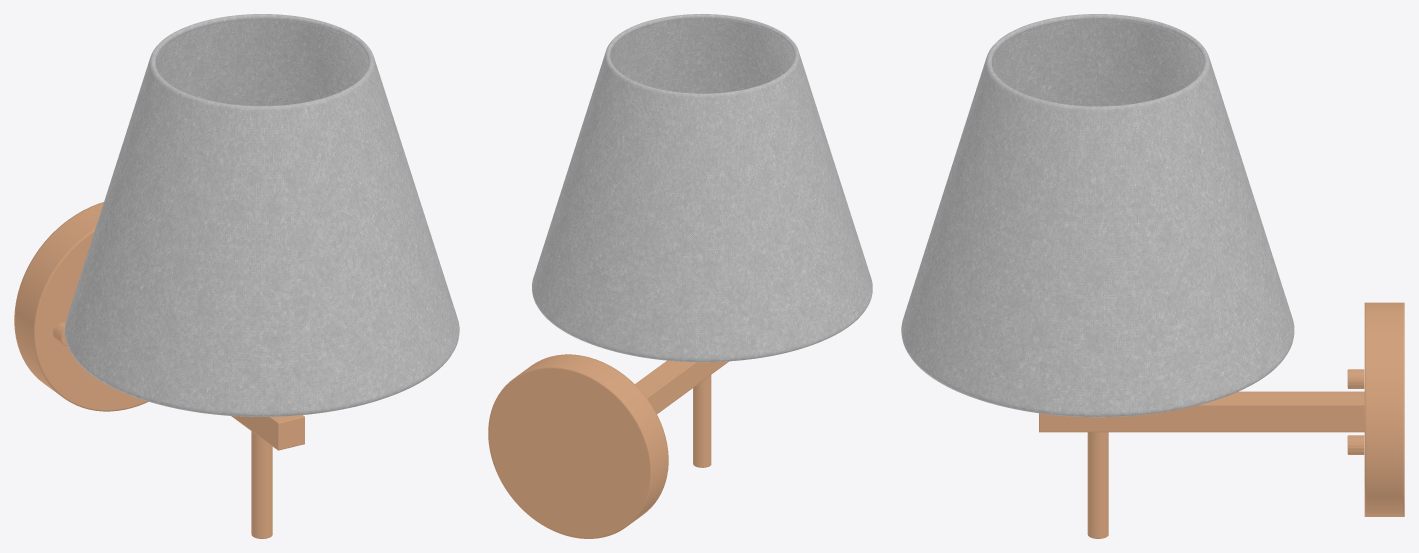
3 views of the same model, side by side, from view 1: azimuth 30°, elevation 25°; view 2: azimuth 150°, elevation 25°; view 3: azimuth 270°, elevation 25° (orthographic). The views are drawn at different scales.
Visible parts, largest first — view 1: 5995; view 2: 5995; view 3: 5995.
Boxes of the visible parts, x1=… form: 5995: x1=14, y1=14, x2=459, y2=538; 5995: x1=488, y1=14, x2=872, y2=538; 5995: x1=901, y1=14, x2=1404, y2=538.
Size of the model in its own units: 0.2 by 0.265 by 0.255.
Materials: 2 (2 with a texture image).
